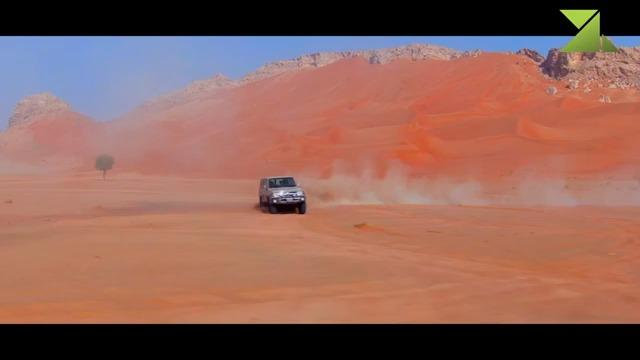MIL_HMMWV: (259, 174, 307, 213)
